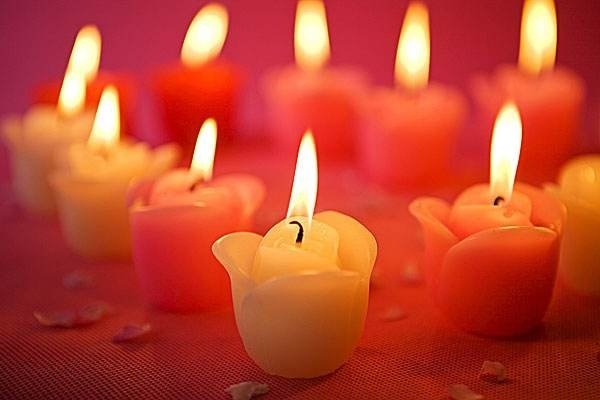fire: (57, 21, 102, 115), (486, 97, 521, 201), (392, 0, 432, 91), (285, 125, 320, 225), (179, 3, 228, 71), (517, 1, 556, 73), (293, 0, 330, 71), (87, 81, 122, 152), (186, 113, 218, 183)
